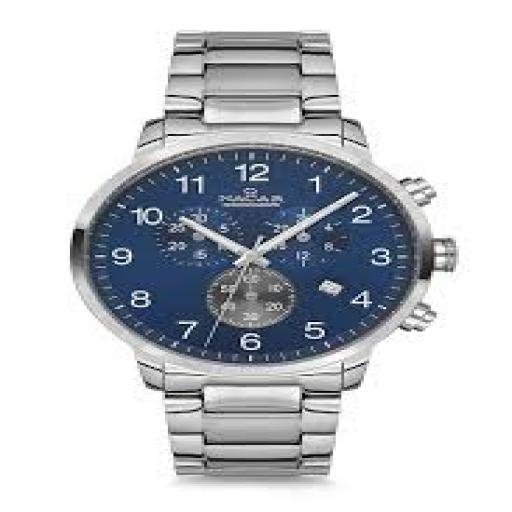KolSaati: (70, 10, 470, 490)
